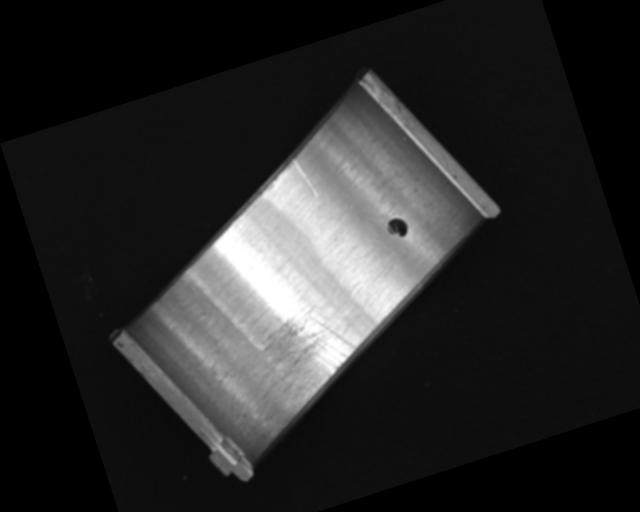blot: (384, 214, 411, 241)
nick: (292, 156, 318, 200)
scratch: (239, 296, 373, 434)
